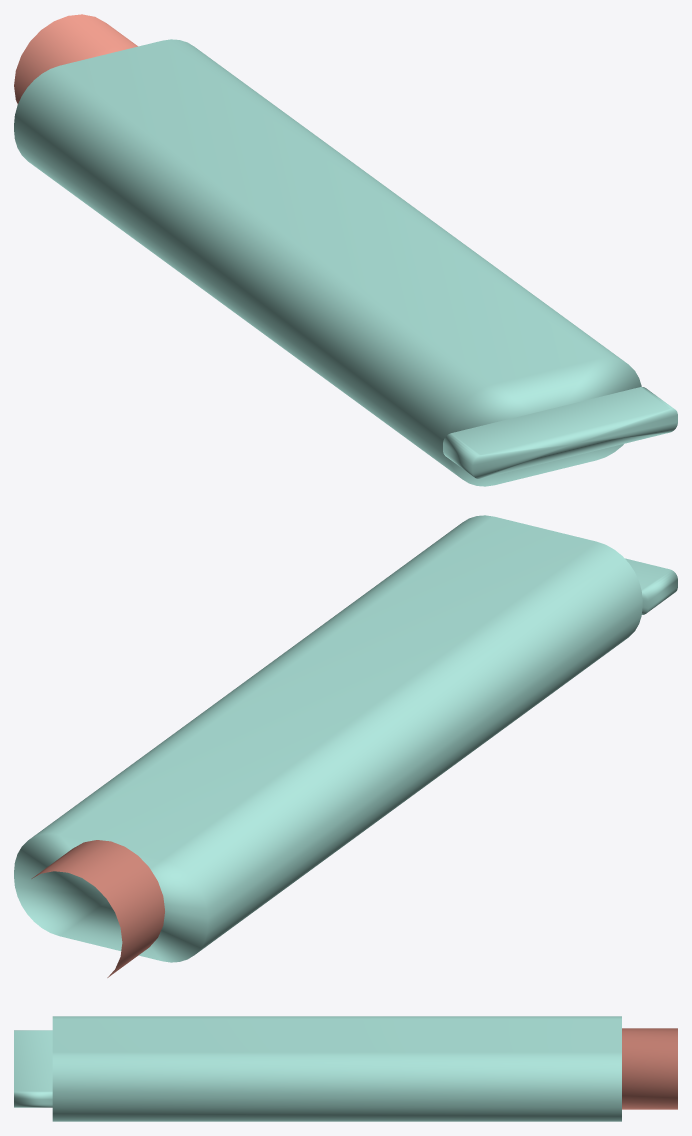
File: toothpaste.glb
3 views of the same model, one above another, from view 1: azimuth 30°, elevation 25°; view 2: azimuth 150°, elevation 25°; view 3: azimuth 270°, elevation 25° (orthographic). The views are drawn at different scales.
Visible parts, largest first — view 1: toothpaste, crimp, cap; view 2: toothpaste, cap, crimp; view 3: toothpaste, cap, crimp.
Part boxes in pixels (<box>): toothpaste: <box>14,39,641,486</box>; crimp: <box>443,387,677,478</box>; cap: <box>14,14,137,104</box>; toothpaste: <box>14,515,642,962</box>; cap: <box>31,840,164,977</box>; crimp: <box>625,558,677,614</box>; toothpaste: <box>52,1016,621,1121</box>; cap: <box>622,1028,677,1109</box>; crimp: <box>14,1030,52,1107</box>.
Bounding box in the file's own units: 0.036 × 0.019 × 0.154.
